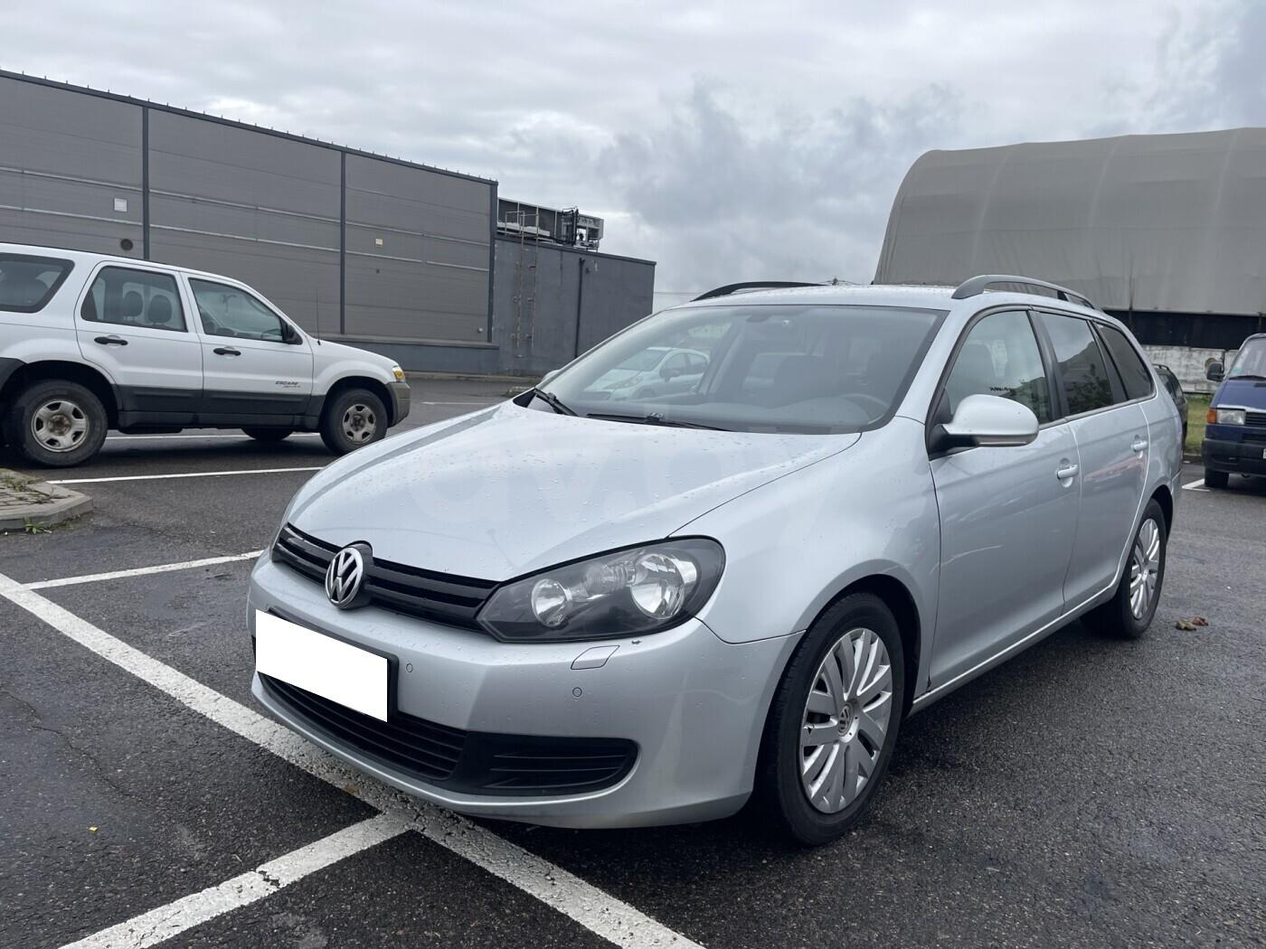Golf_2008-2013: (248, 277, 1189, 837)
